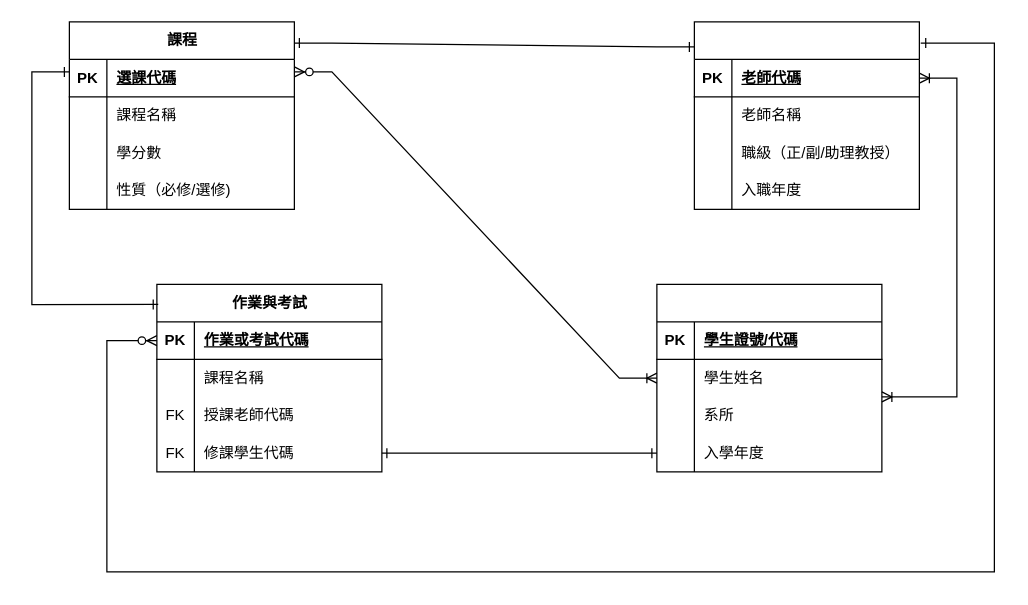
The diagram is 1028 pixels wide and 605 high, and some of its shapes have lost their labels. The box of each missing label's shape, as (x1, y1, x2, y2) in pixels:
學生: (656, 283, 882, 472)
老師: (693, 21, 919, 209)
